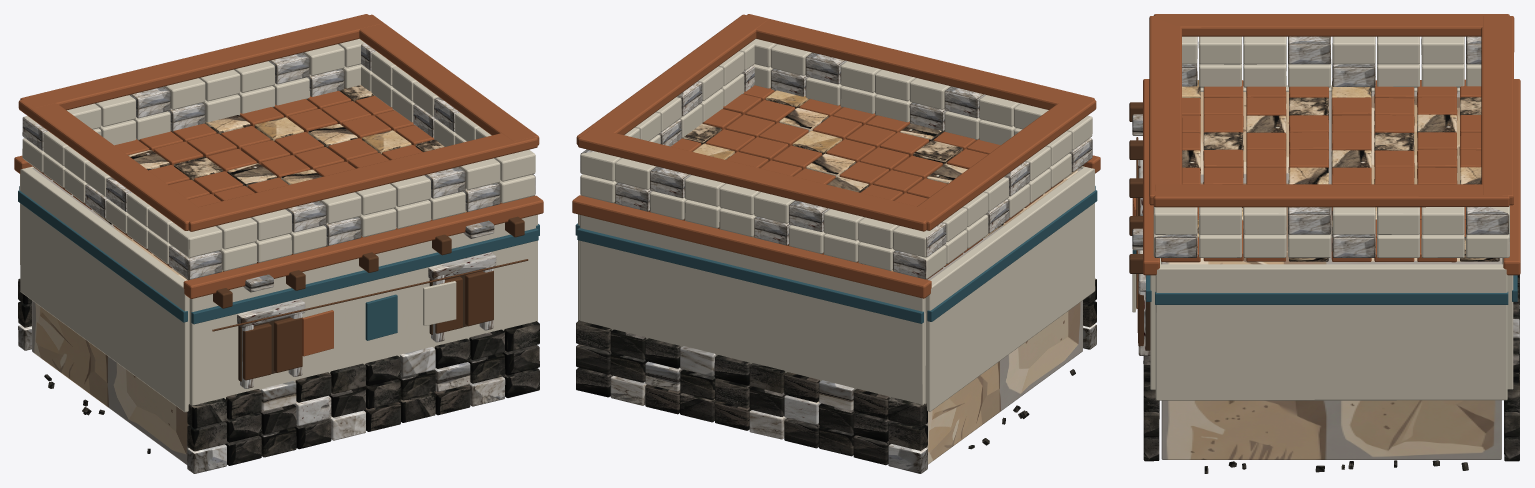
The model's file is greek_house_walkable_roof_LOD0.glb.
3 renders of one model, left to right at view 1: azimuth 30°, elevation 25°; view 2: azimuth 150°, elevation 25°; view 3: azimuth 270°, elevation 25°, orthographic. The views are drawn at different scales.
Parts seen in each view (by area): view 1: HouseLeftPlaster, HouseFrontPlaster, HouseMasonryHeart, HouseParapetCoping, HouseParapetCoping.001, HouseTerracottaFascia, HouseParapetCoping.002, HouseParapetCoping.003, HousePaintedBand, HousePaintedBand.002, HouseWoodShutter, HouseWoodShutter.003 (+91 smaller); view 2: HouseBackPlaster, HouseLeftPlaster, HouseMasonryHeart, HouseParapetCoping.001, HouseParapetCoping, HouseTerracottaFascia.001, HouseParapetCoping.002, HouseParapetCoping.003, HousePaintedBand.001, HousePaintedBand.002, HousePlinthAshlar.050, HousePlinthAshlar.040 (+85 smaller); view 3: HouseRightPlaster, HouseMasonryHeart, HouseParapetCoping.003, HouseParapetCoping.002, HouseParapetCoping.001, HouseParapetCoping, HousePaintedBand.003, HouseTerracottaFascia.001, HouseTerracottaFascia, HouseRoofParapet.050, HouseRoofParapet.052, HouseRoofParapet.054 (+71 smaller).
Part boxes in pixels (box(x1,y1,x2,y2)): HouseLeftPlaster: box(20, 167, 189, 412); HouseFrontPlaster: box(189, 215, 535, 405); HouseMasonryHeart: box(32, 168, 189, 464); HouseParapetCoping: box(188, 133, 537, 231); HouseParapetCoping.001: box(20, 14, 379, 110); HouseTerracottaFascia: box(183, 195, 543, 298); HouseParapetCoping.002: box(18, 94, 199, 230); HouseParapetCoping.003: box(359, 14, 539, 145); HousePaintedBand: box(191, 228, 538, 324); HousePaintedBand.002: box(18, 190, 187, 322); HouseWoodShutter: box(242, 323, 271, 380); HouseWoodShutter.003: box(465, 270, 493, 326); HouseBackPlaster: box(580, 215, 925, 404); HouseLeftPlaster: box(925, 167, 1095, 411); HouseMasonryHeart: box(925, 168, 1082, 464); HouseParapetCoping.001: box(578, 128, 937, 231); HouseParapetCoping: box(747, 14, 1094, 109); HouseTerracottaFascia.001: box(572, 195, 931, 298); HouseParapetCoping.002: box(906, 98, 1096, 230); HouseParapetCoping.003: box(576, 14, 766, 144); HousePaintedBand.001: box(577, 227, 923, 323); HousePaintedBand.002: box(927, 190, 1097, 321); HousePlinthAshlar.050: box(888, 397, 927, 427); HousePlinthAshlar.040: box(888, 420, 927, 450); HouseRightPlaster: box(1155, 264, 1507, 400); HouseMasonryHeart: box(1161, 92, 1501, 459); HouseParapetCoping.003: box(1153, 184, 1509, 207); HouseParapetCoping.002: box(1153, 14, 1509, 36); HouseParapetCoping.001: box(1481, 16, 1514, 205); HouseParapetCoping: box(1149, 16, 1182, 205); HousePaintedBand.003: box(1155, 292, 1508, 304); HouseTerracottaFascia.001: box(1503, 79, 1520, 275); HouseTerracottaFascia: box(1143, 79, 1159, 275); HouseRoofParapet.050: box(1243, 36, 1286, 64); HouseRoofParapet.052: box(1332, 36, 1375, 64); HouseRoofParapet.054: box(1421, 36, 1464, 64).
Bounding box in the file's own units: 6.65 × 4.19 × 5.49.
9 materials, 4 textured.
